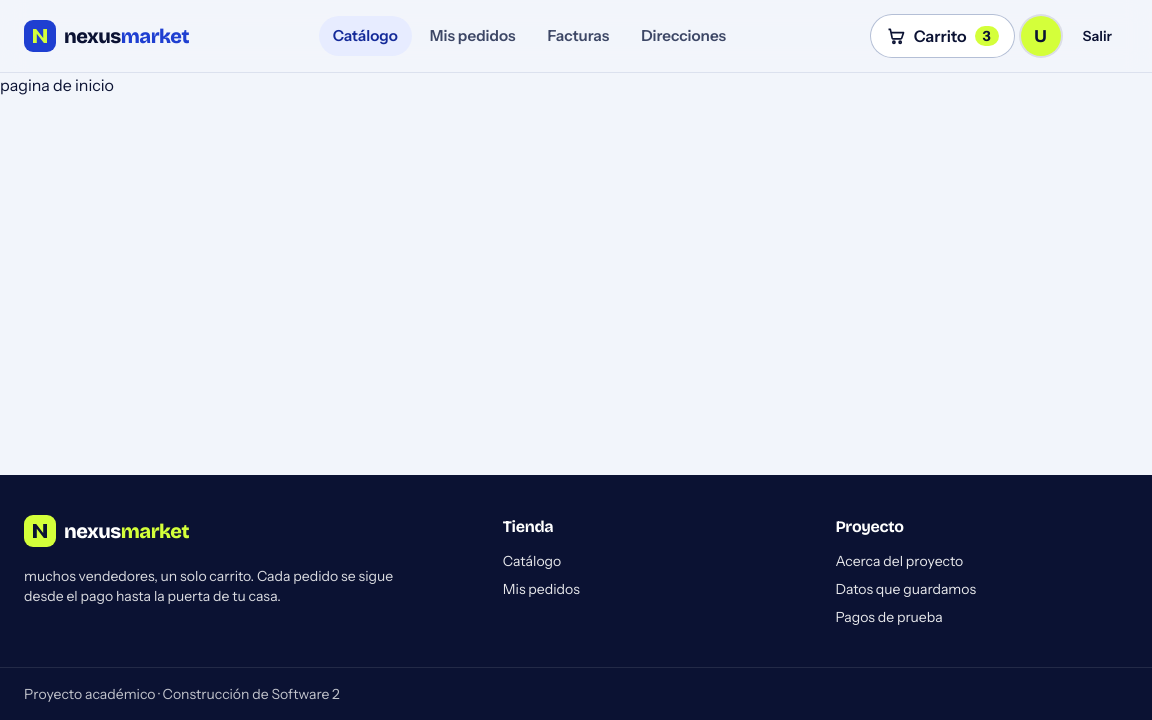
Scenario: cart side panel › closes with Esc and gives the focus back to the cart button
Click the button with aria-label "Carrito, 3 productos" at (942, 36), box [870, 14, 1014, 58]
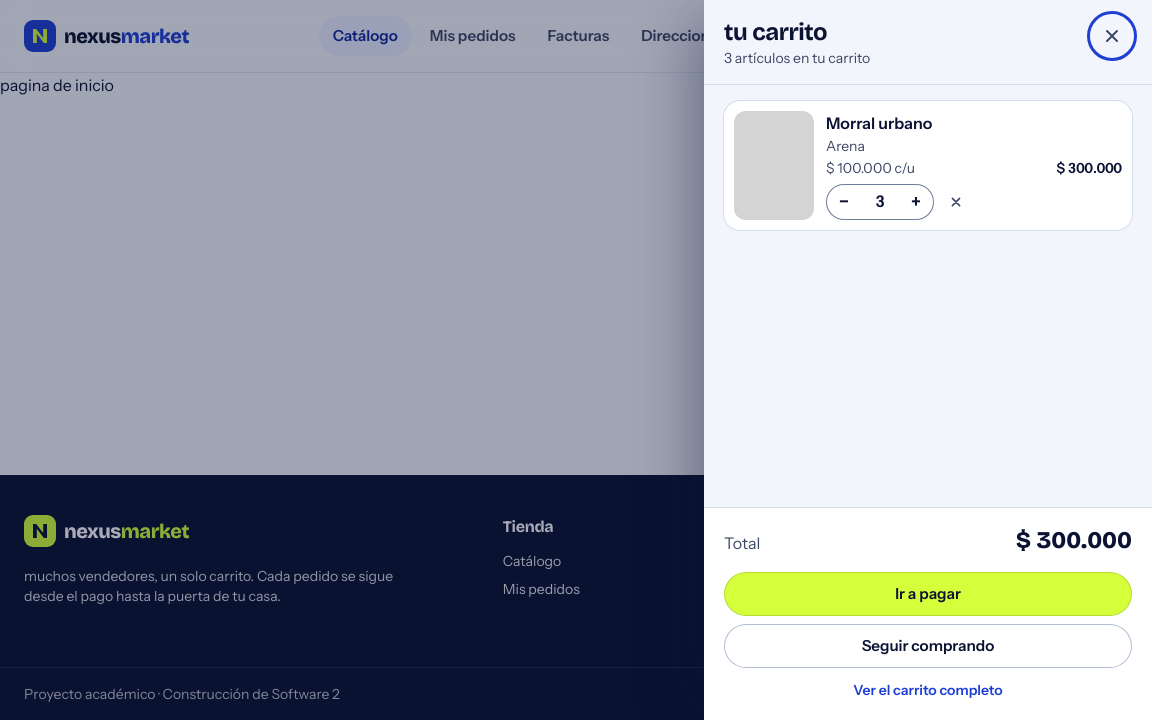
Result: the dialog is shown at [704, 0, 1151, 719]
Press Escape
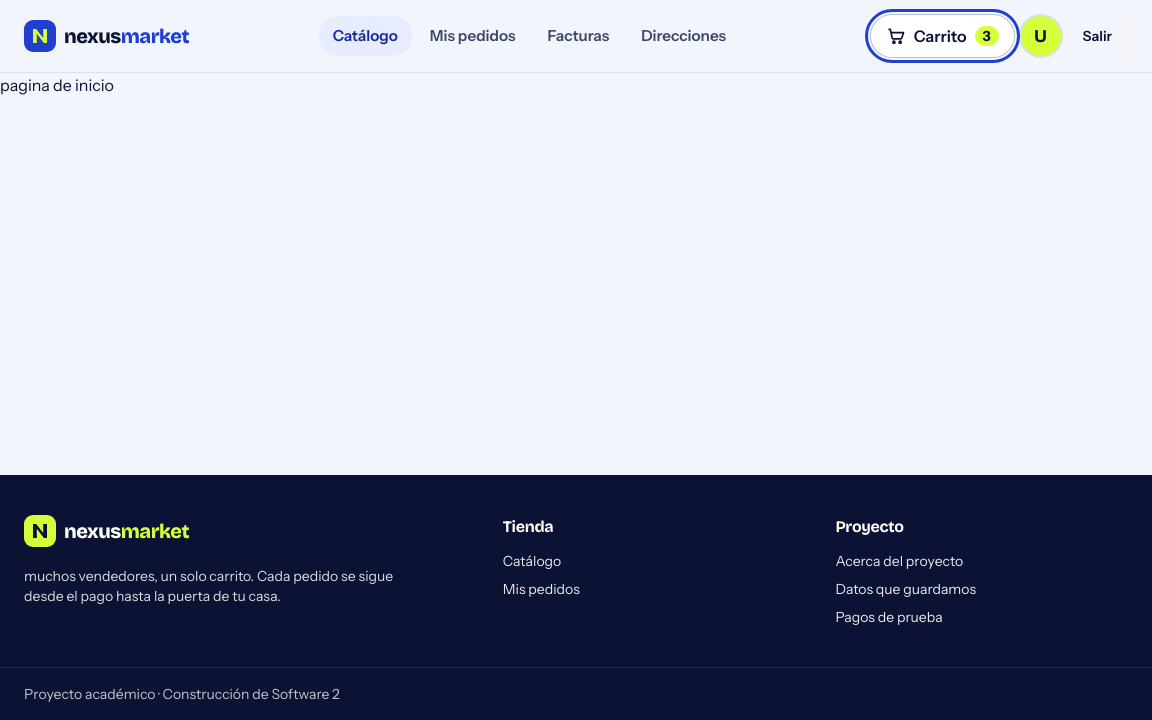
Result: the dialog is gone
